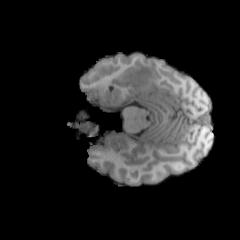glioma: (114, 65, 161, 95)
